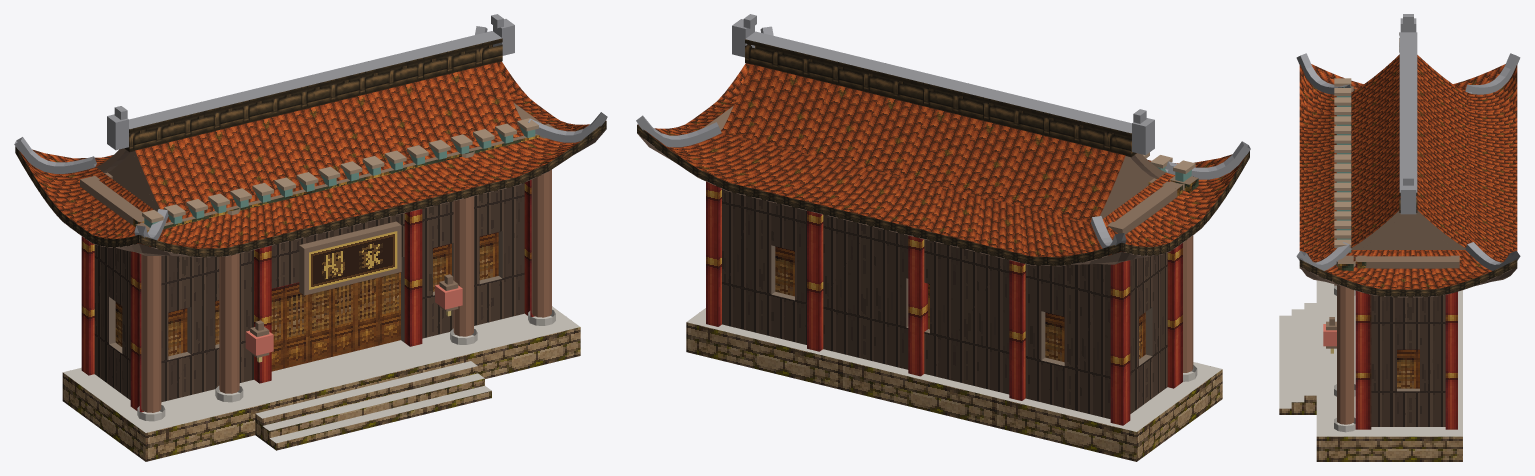
The model's file is g_yang_wood_b.glb.
3 renders of one model, left to right at view 1: azimuth 30°, elevation 25°; view 2: azimuth 150°, elevation 25°; view 3: azimuth 270°, elevation 25°, orthographic. The views are drawn at different scales.
Parts seen in each view (by area): view 1: roof, plaster, stonetop, stone, col, door, post, ridge, ridgeend, wood, eave, woodl (+7 smaller); view 2: roof, plaster, stone, post, ridge, ridgeend, eave, stonetop, wood, win, col, reveal (+1 smaller); view 3: roof, plaster, stonetop, ridgeend, stone, wood, post, woodl, col, eave, win, dougong (+1 smaller).
Part boxes in pixels (x1,y1,x2,y2): roof: (19, 61, 605, 248); plaster: (94, 183, 524, 402); stonetop: (63, 306, 579, 443); stone: (62, 327, 580, 461); col: (141, 169, 551, 412); door: (271, 272, 400, 371); post: (81, 179, 534, 412); ridge: (124, 38, 502, 152); ridgeend: (14, 14, 607, 240); wood: (80, 102, 554, 357); eave: (15, 121, 606, 257); woodl: (141, 118, 545, 222); roof: (637, 63, 1245, 257); plaster: (722, 189, 1167, 418); stone: (686, 322, 1222, 461); post: (706, 181, 1182, 425); ridge: (745, 39, 1136, 157); ridgeend: (636, 14, 1250, 248); eave: (637, 124, 1249, 266); stonetop: (686, 308, 1222, 431); wood: (704, 106, 1198, 234); win: (775, 246, 1145, 362); col: (1183, 235, 1193, 372); reveal: (771, 245, 1152, 365); roof: (1299, 54, 1517, 289); plaster: (1371, 295, 1445, 426); stonetop: (1279, 280, 1462, 436); ridgeend: (1296, 14, 1520, 270); stone: (1279, 395, 1462, 461); wood: (1326, 86, 1465, 348); post: (1355, 261, 1457, 429); woodl: (1334, 78, 1355, 267); col: (1337, 285, 1354, 424); eave: (1299, 259, 1517, 297); win: (1397, 349, 1419, 388); dougong: (1336, 86, 1351, 252).
Bounding box in the file's own units: 85.81 × 53.37 × 42.94.
Materials: 20 (10 with a texture image).
